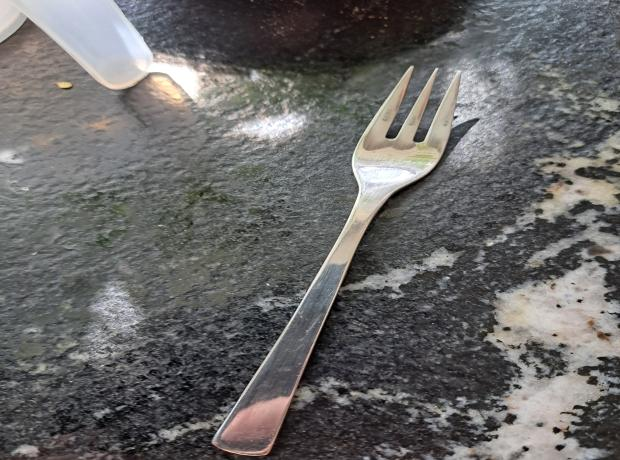metal: (211, 69, 466, 457)
